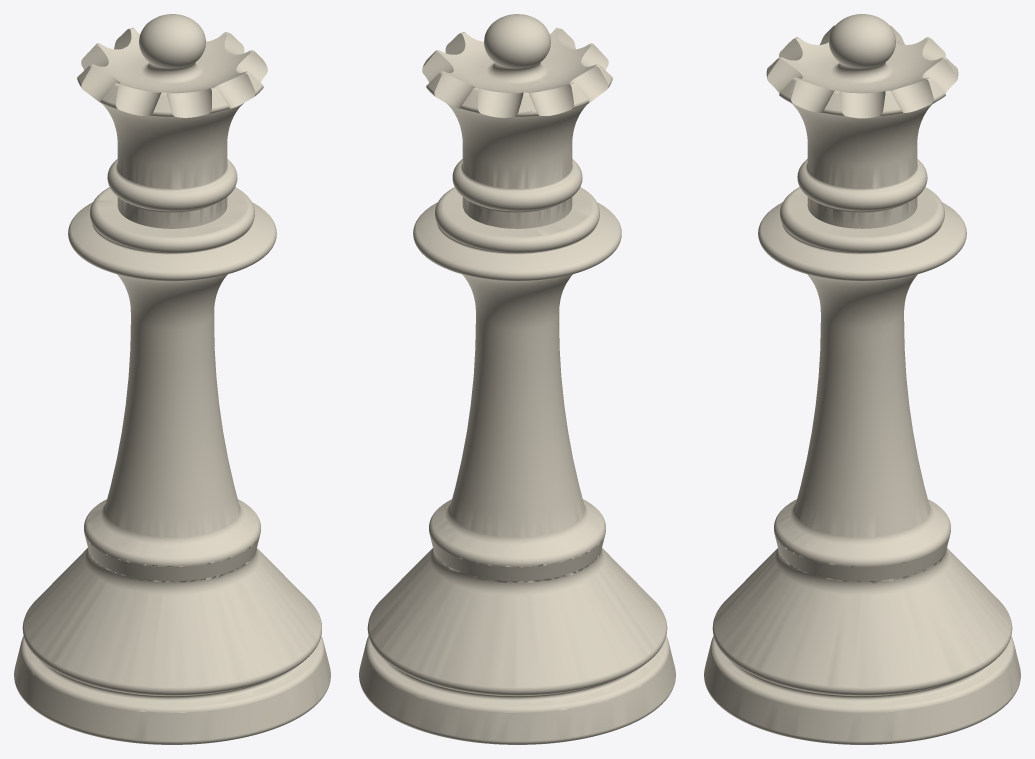
Rendered from dama.glb.
The picture shows the model from 3 angles, left to right: view 1: azimuth 30°, elevation 25°; view 2: azimuth 150°, elevation 25°; view 3: azimuth 270°, elevation 25°; orthographic projection.
Parts seen in each view (by area): view 1: Object_2; view 2: Object_2; view 3: Object_2.
Boxes of the visible parts, bbox=[...] form: Object_2: bbox=[14, 14, 330, 744]; Object_2: bbox=[359, 14, 675, 744]; Object_2: bbox=[704, 14, 1020, 744].
Size of the model in its own units: 40.75 by 93.92 by 40.75.
